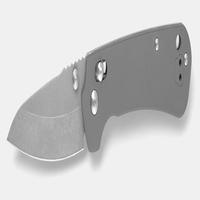knife: (2, 20, 190, 164)
